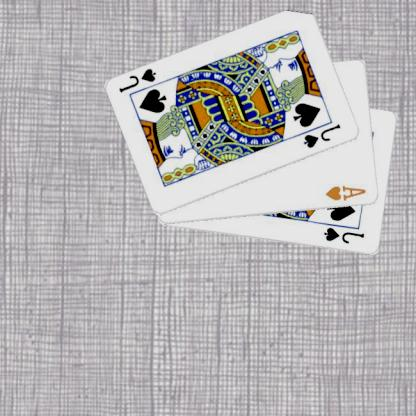AH: (325, 182, 369, 203)
JS: (118, 65, 160, 94), (303, 121, 344, 150), (323, 224, 368, 245)
